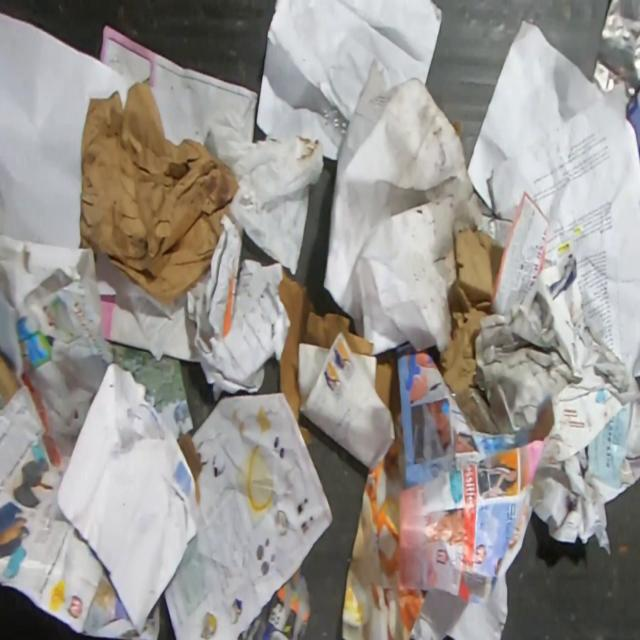cardboard: (277, 267, 374, 422), (436, 223, 504, 397), (375, 349, 400, 427), (529, 399, 554, 442), (299, 426, 312, 445)
soft_plastic: (590, 0, 640, 112), (318, 89, 348, 151)
